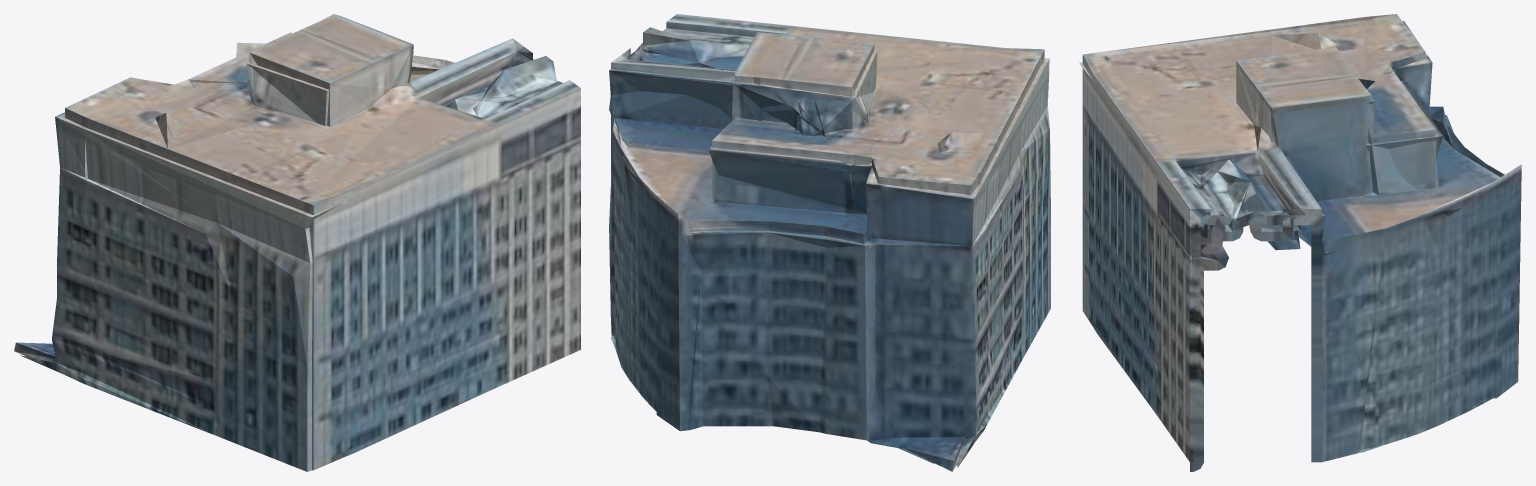
The model's file is chunk_1_4.glb.
The picture shows the model from 3 angles, left to right: view 1: azimuth 30°, elevation 25°; view 2: azimuth 150°, elevation 25°; view 3: azimuth 270°, elevation 25°; orthographic projection. The views are drawn at different scales.
Parts seen in each view (by area): view 1: hero-chunk; view 2: hero-chunk; view 3: hero-chunk.
Part boxes in pixels (left/top/right/bottom): hero-chunk: left=14, top=14, right=580, bottom=471; hero-chunk: left=609, top=14, right=1050, bottom=471; hero-chunk: left=1079, top=14, right=1521, bottom=471.
Bounding box in the file's own units: 40.95 × 28.99 × 38.16.
1 material, 1 textured.
